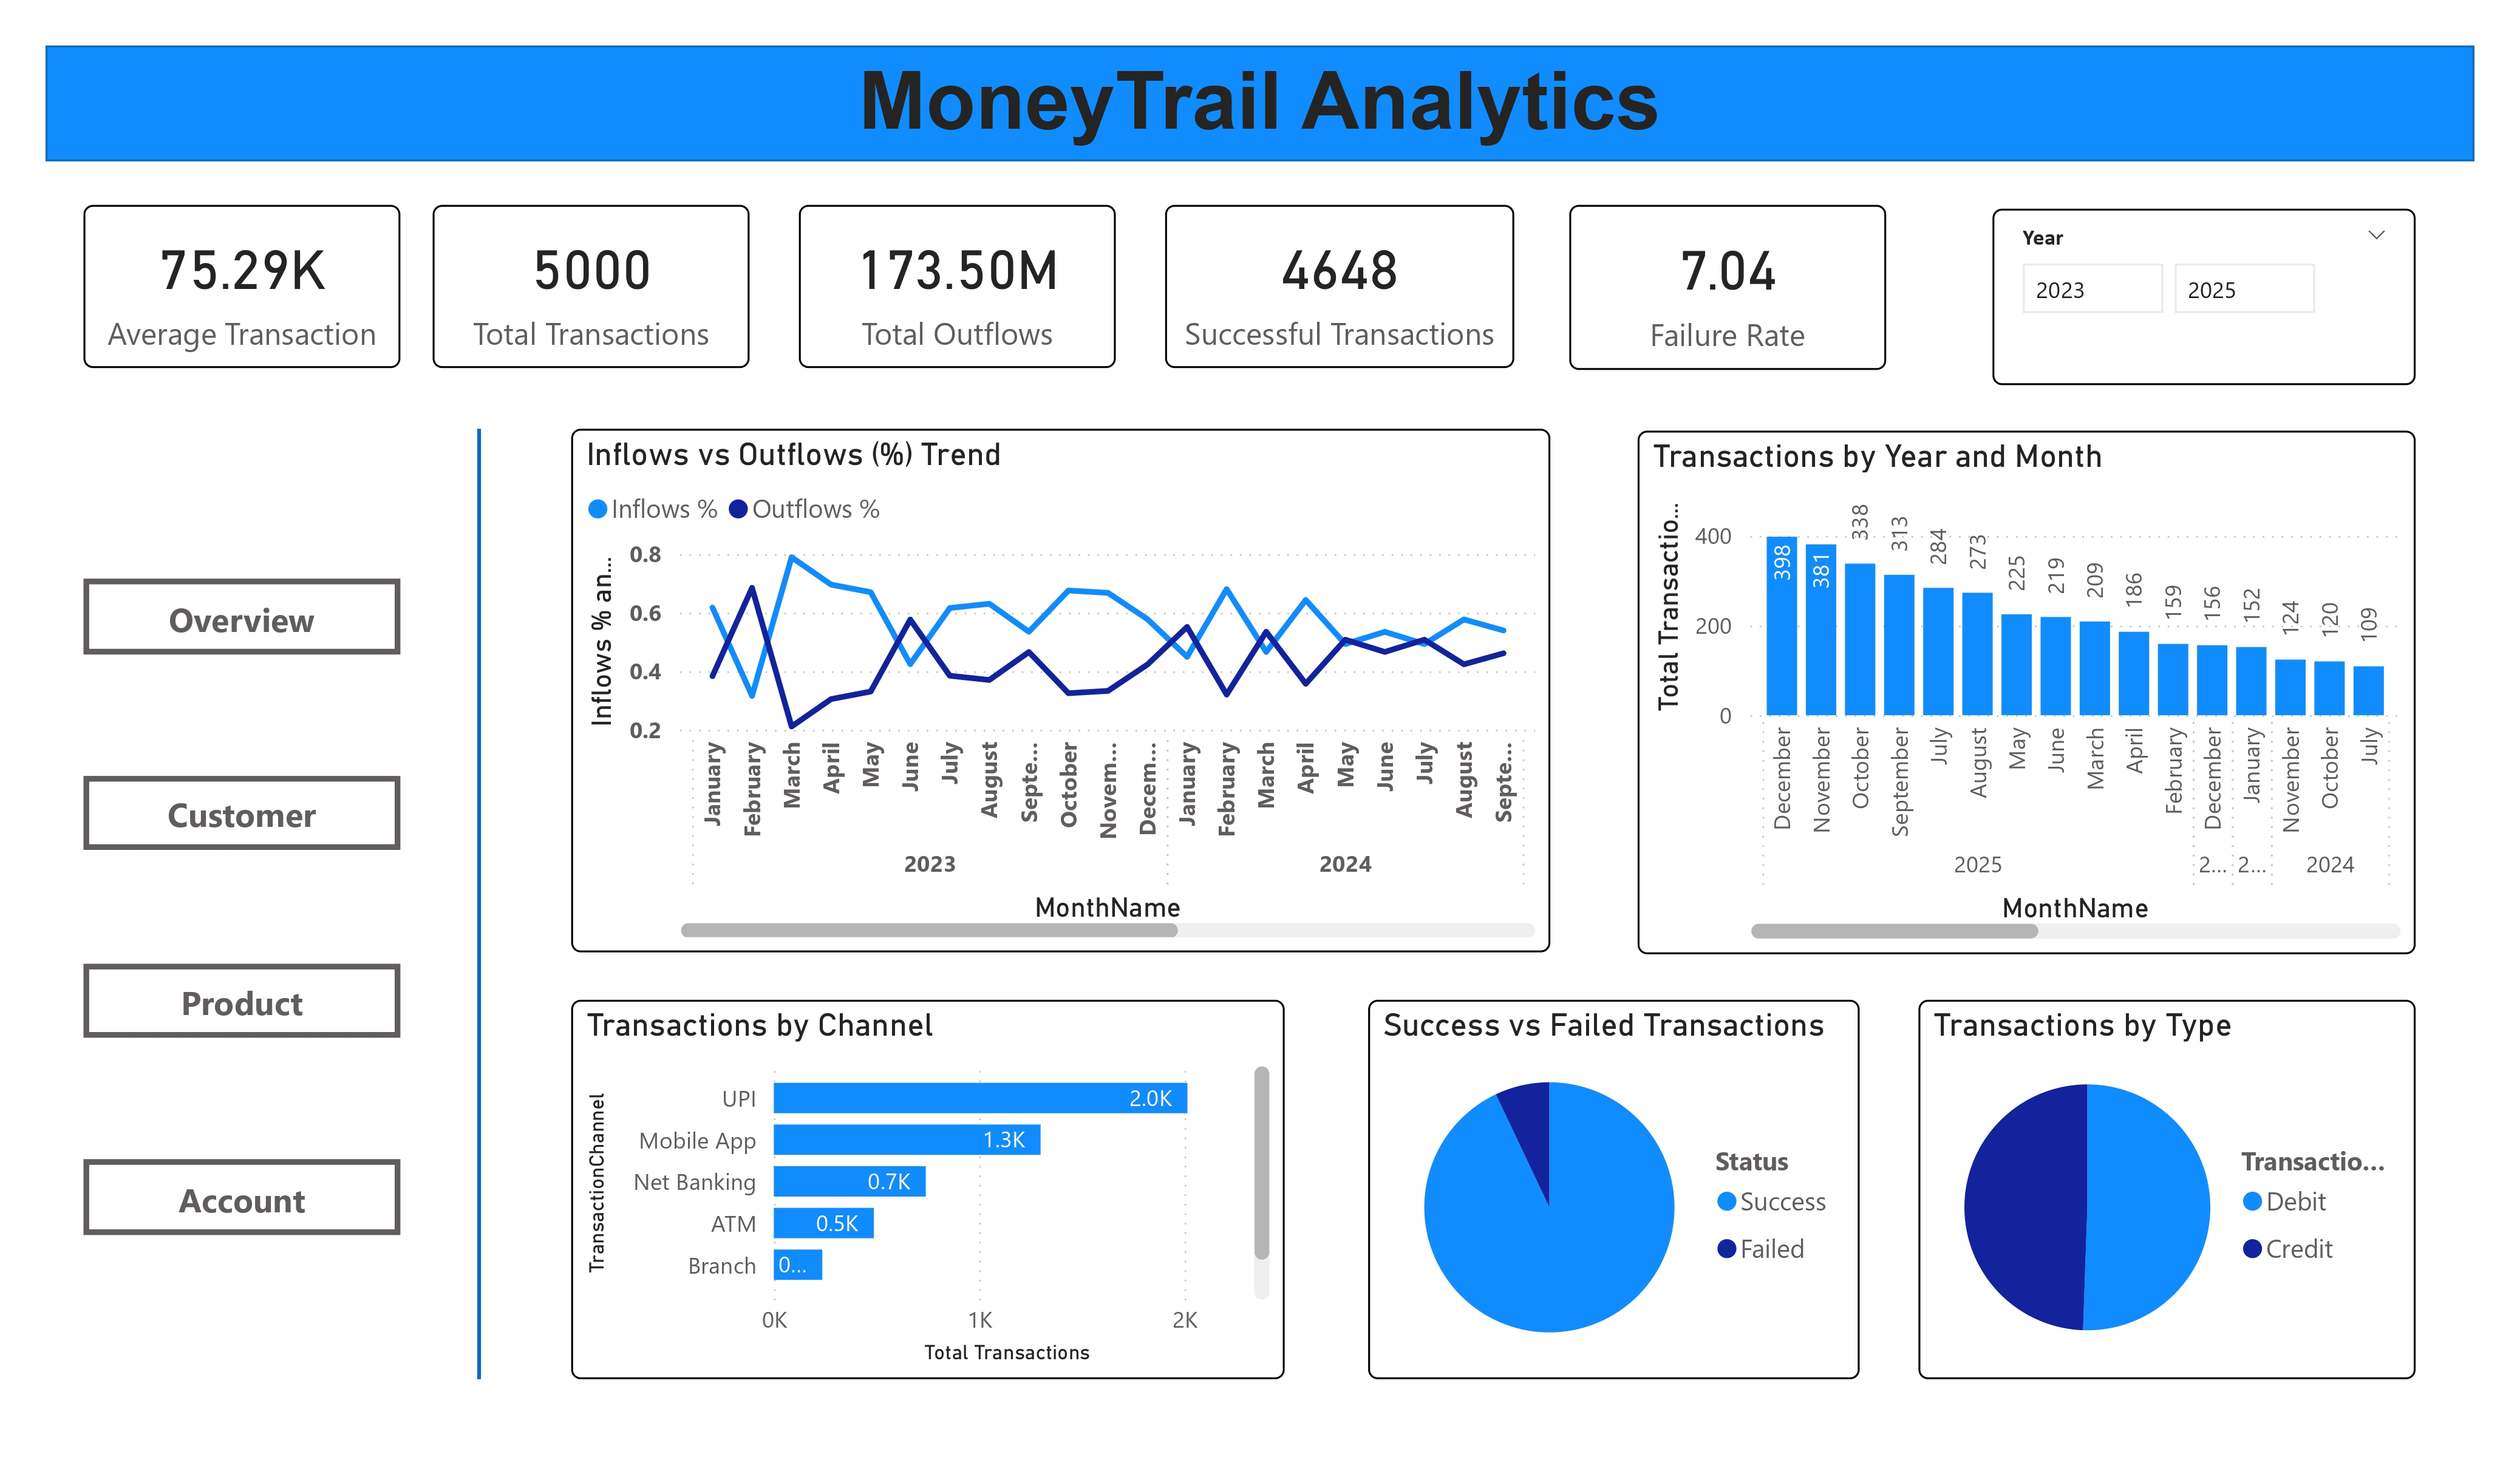

Layout of this report page (visuals, bound fields, positions):
{"tool":"powerbi","page":{"name":"Transaction Analysis","canvas":[1280,720],"ordinal":1},"visuals":[{"type":"card","fields":{"Values":["DimAccount.Total Transactions"]},"box":[204.3,84.3,167.1,85.7],"z":0},{"type":"card","fields":{"Values":["DimAccount.Average Transaction"]},"box":[19.8,83.7,167,86],"z":1000},{"type":"card","fields":{"Values":["DimAccount.Total Outflows"]},"box":[397.1,84.3,167.1,85.7],"z":2000},{"type":"card","fields":{"Values":["DimAccount.Failure Rate"]},"box":[802.9,84.3,167.1,87.1],"z":3000},{"type":"card","fields":{"Values":["DimAccount.Successful Transactions"]},"box":[590,84.3,184.3,85.7],"z":4000},{"type":"lineChart","title":"Inflows vs Outflows (%) Trend","fields":{"Category":["DimCalendar.Year","DimCalendar.MonthName"],"Y":["DimAccount.Inflows %","DimAccount.Outflows %"]},"box":[276.7,202.3,516.3,275.6],"z":5000},{"type":"columnChart","title":"Transactions by Year and Month","fields":{"Category":["DimCalendar.Year","DimCalendar.MonthName"],"Y":["DimAccount.Total Transactions"]},"box":[838.6,202.9,410,275.7],"z":6000},{"type":"pieChart","title":"Success vs Failed Transactions","fields":{"Category":["FactTransaction.Status"],"Y":["DimAccount.Total Transactions"]},"box":[697.1,502.9,258.6,200],"z":7000},{"type":"barChart","title":"Transactions by Channel","fields":{"Category":["FactTransaction.TransactionChannel"],"Y":["DimAccount.Total Transactions"]},"box":[277.1,502.9,375.7,200],"z":8000},{"type":"pieChart","title":"Transactions by Type","fields":{"Category":["FactTransaction.TransactionType"],"Y":["DimAccount.Total Transactions"]},"box":[987.1,502.9,261.4,200],"z":9000},{"type":"shape","box":[0,0,1280,61],"z":10000},{"type":"actionButton","box":[19.8,384.9,167.4,39.5],"z":11000},{"type":"actionButton","box":[19.8,281.4,167.4,39.5],"z":12000},{"type":"actionButton","box":[19.8,483.7,167.4,39.5],"z":13000},{"type":"actionButton","box":[19.8,587.2,167.4,39.5],"z":14000},{"type":"shape","box":[218.6,202.3,19.8,501.2],"z":15000},{"type":"slicer","fields":{"Values":["DimCalendar.Year"]},"box":[1025.7,85.7,222.9,92.9],"z":16000},{"type":"textbox","box":[0,0,1280,61.4],"z":16001}]}

Visuals, with their boxes on the page's 1280x720 design canvas (x1, y1, x2, y2). These are canvas units, not pixel positions in the 2520x1457 screenshot, which may show the page scaled, cropped or inside an application window:
card - DimAccount.Total Transactions: x1=204 y1=84 x2=371 y2=170
card - DimAccount.Average Transaction: x1=20 y1=84 x2=187 y2=170
card - DimAccount.Total Outflows: x1=397 y1=84 x2=564 y2=170
card - DimAccount.Failure Rate: x1=803 y1=84 x2=970 y2=171
card - DimAccount.Successful Transactions: x1=590 y1=84 x2=774 y2=170
"Inflows vs Outflows (%) Trend" lineChart: x1=277 y1=202 x2=793 y2=478
"Transactions by Year and Month" columnChart: x1=839 y1=203 x2=1249 y2=479
"Success vs Failed Transactions" pieChart: x1=697 y1=503 x2=956 y2=703
"Transactions by Channel" barChart: x1=277 y1=503 x2=653 y2=703
"Transactions by Type" pieChart: x1=987 y1=503 x2=1248 y2=703
shape: x1=0 y1=0 x2=1280 y2=61
actionButton: x1=20 y1=385 x2=187 y2=424
actionButton: x1=20 y1=281 x2=187 y2=321
actionButton: x1=20 y1=484 x2=187 y2=523
actionButton: x1=20 y1=587 x2=187 y2=627
shape: x1=219 y1=202 x2=238 y2=704
slicer - DimCalendar.Year: x1=1026 y1=86 x2=1249 y2=179
textbox: x1=0 y1=0 x2=1280 y2=61
